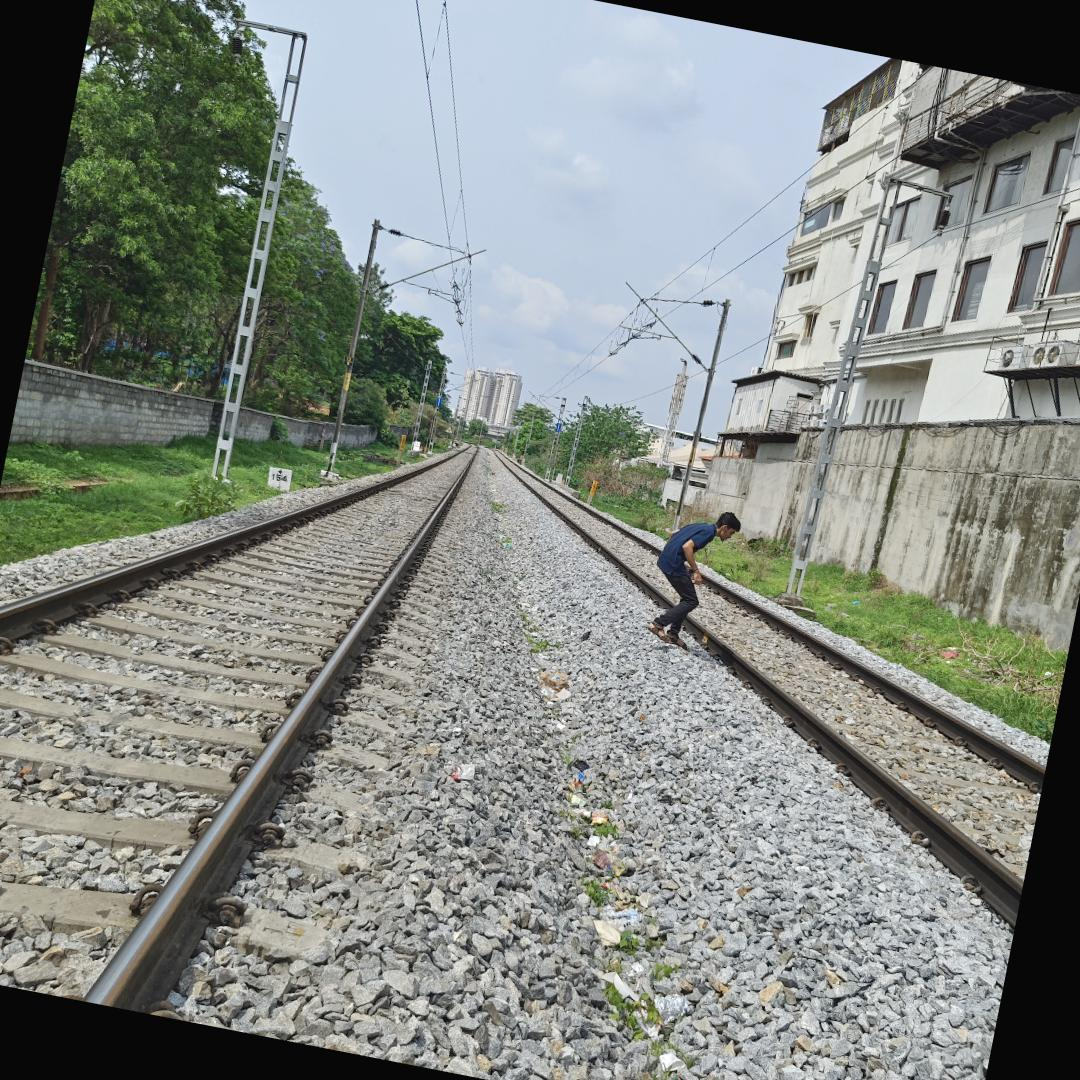standing: (638, 506, 747, 660)
track: (0, 443, 487, 1016)
